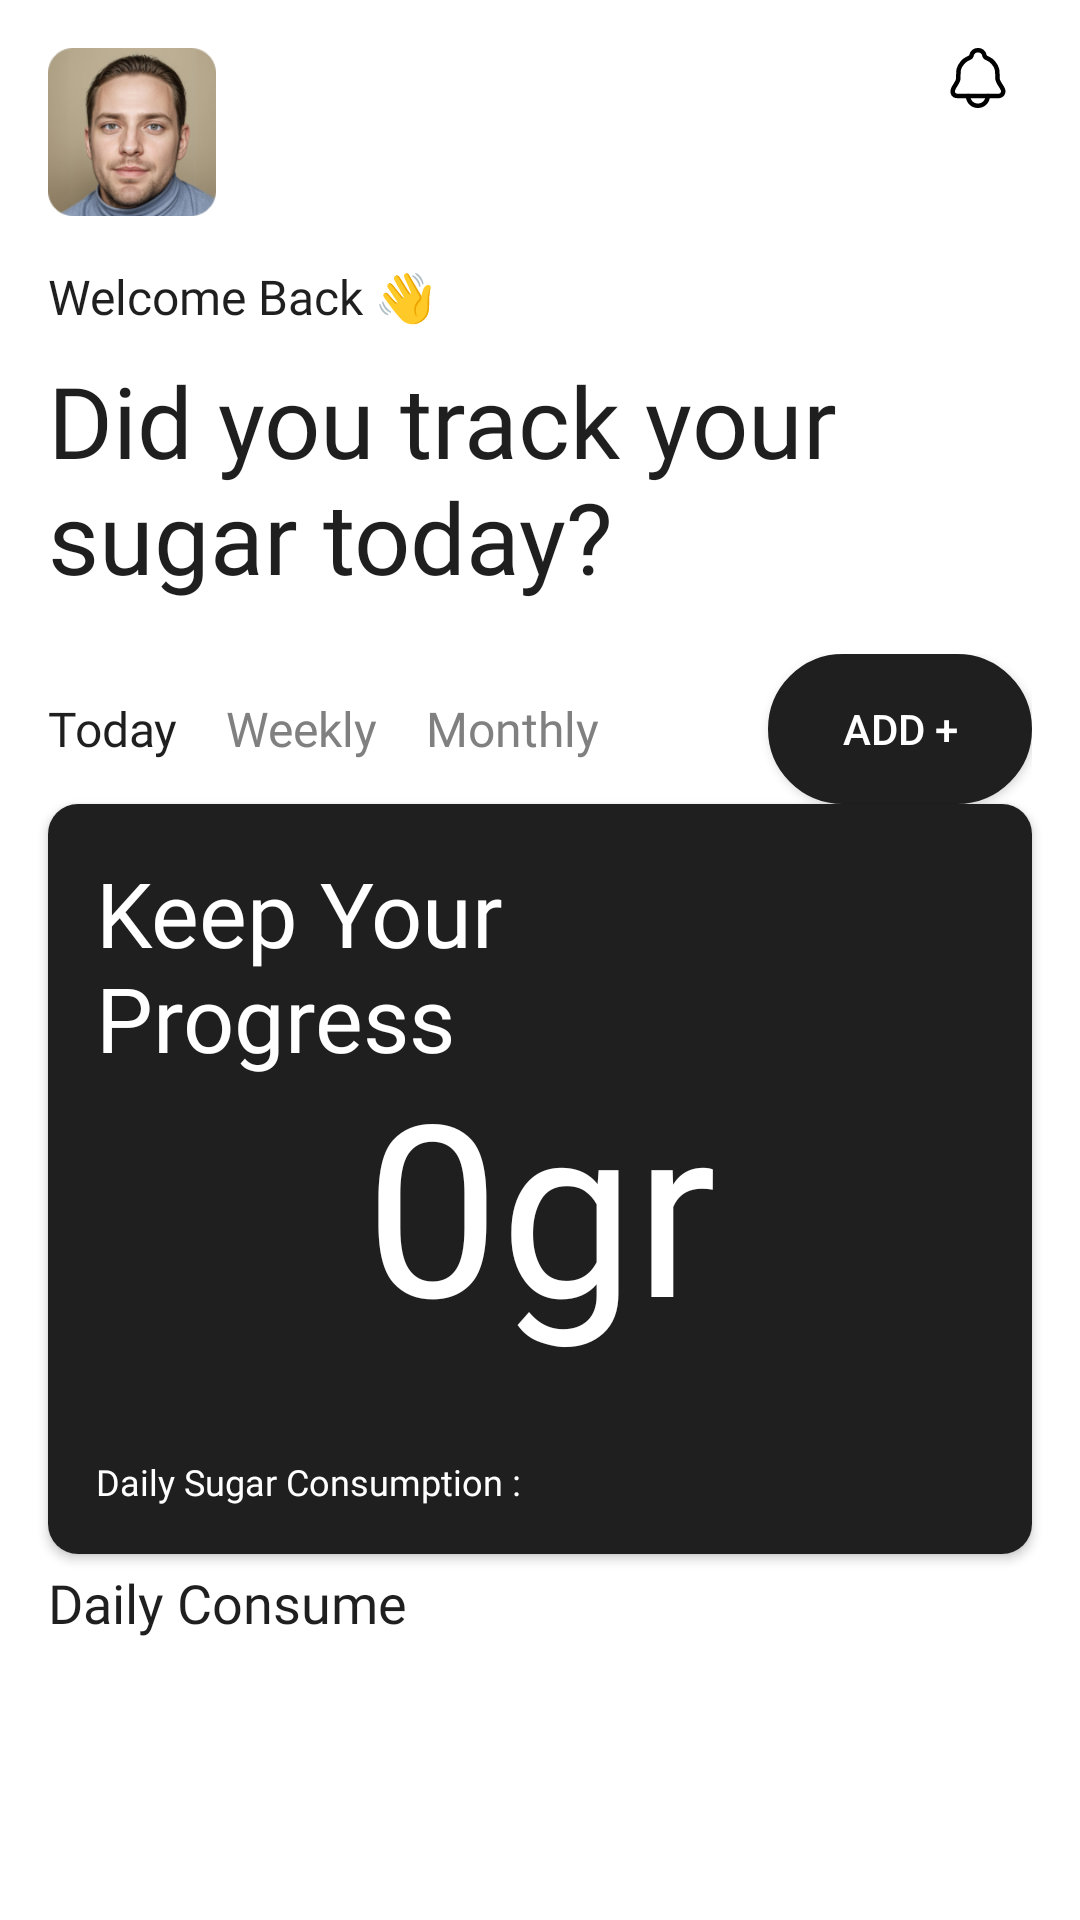

Icons on this 1080 x 1920 Android screen, each with its box as (left=x1, top=y1, right=x2, bottom=y2):
Notification icon: (left=950, top=48, right=1006, bottom=108)
